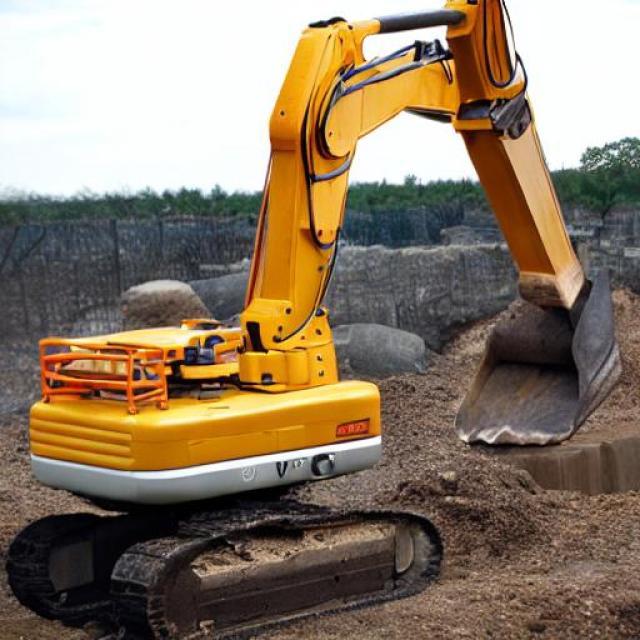excavator: (299, 0, 639, 402)
